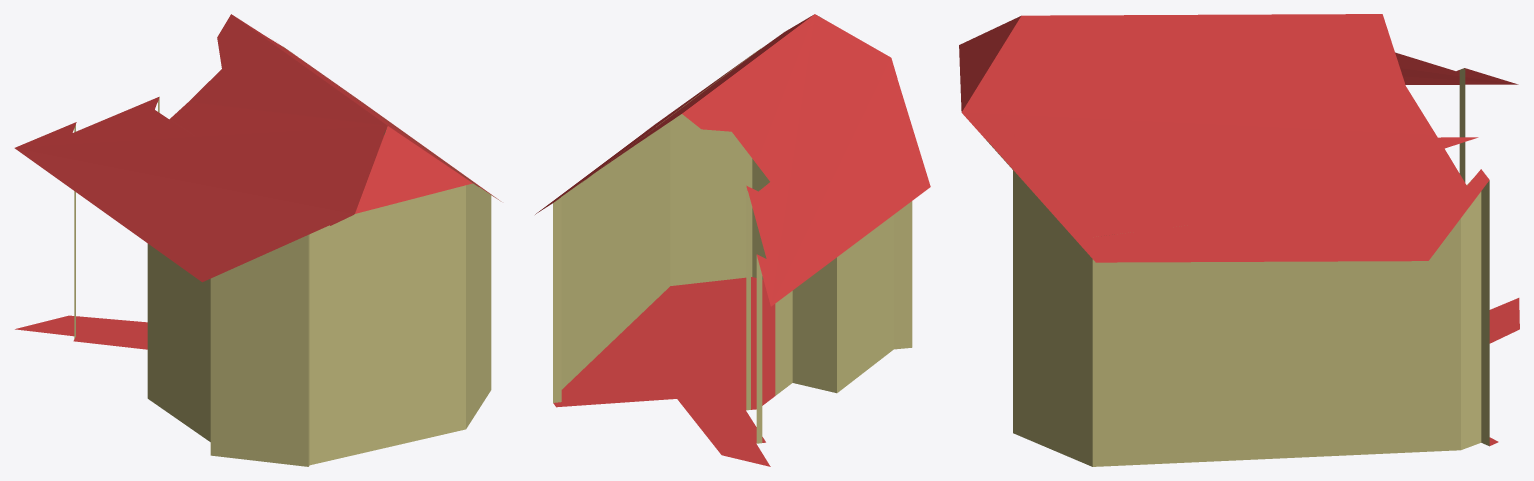
3 renders of one model, left to right at view 1: azimuth 30°, elevation 25°; view 2: azimuth 150°, elevation 25°; view 3: azimuth 270°, elevation 25°, orthographic. The views are drawn at different scales.
Bounding box in the file's own units: 11.95 × 15.91 × 11.73.
